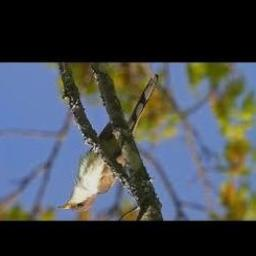Cuckoo: (56, 74, 158, 212)
